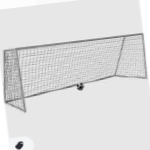goals: (1, 31, 149, 113)
